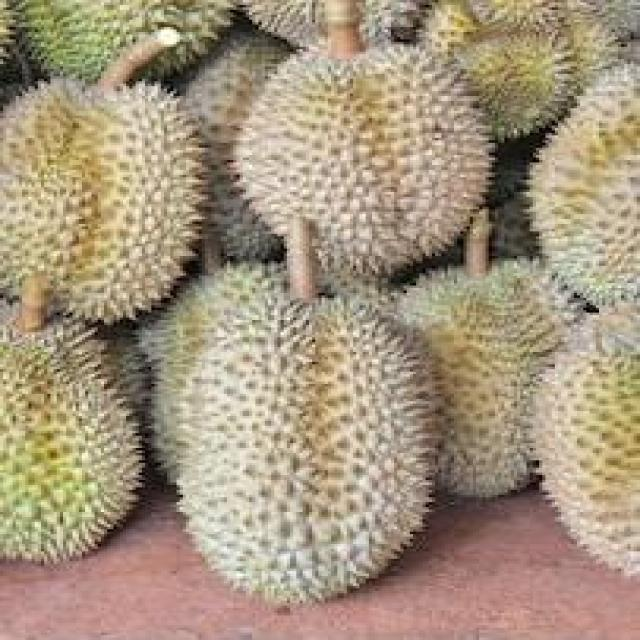mature: (178, 294, 437, 603), (240, 46, 493, 277)
